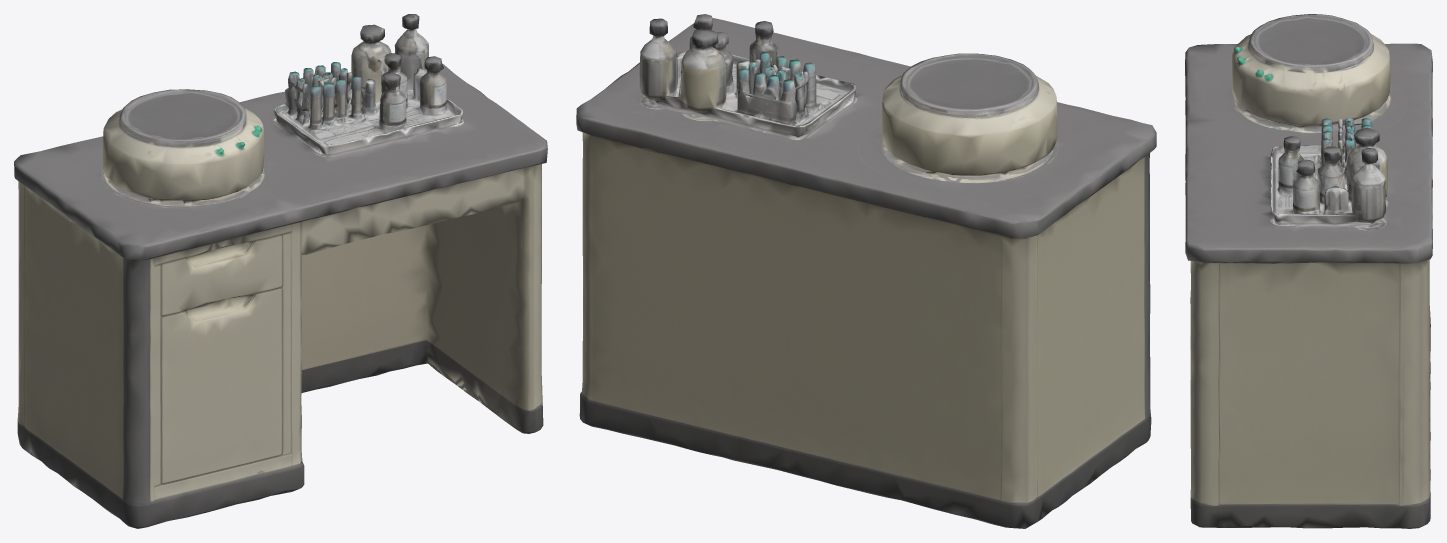
Rendered from CentrifugeBench.glb.
3 renders of one model, left to right at view 1: azimuth 30°, elevation 25°; view 2: azimuth 150°, elevation 25°; view 3: azimuth 270°, elevation 25°, orthographic. The views are drawn at different scales.
Visible parts, largest first — view 1: texture_mapping; view 2: texture_mapping; view 3: texture_mapping.
Boxes of the visible parts, x1,y1,x2,y2 form: texture_mapping: (14, 14, 547, 528); texture_mapping: (576, 14, 1156, 528); texture_mapping: (1185, 14, 1432, 528).
Size of the model in its own units: 1 by 0.8067 by 0.5094.
1 material, 1 textured.
